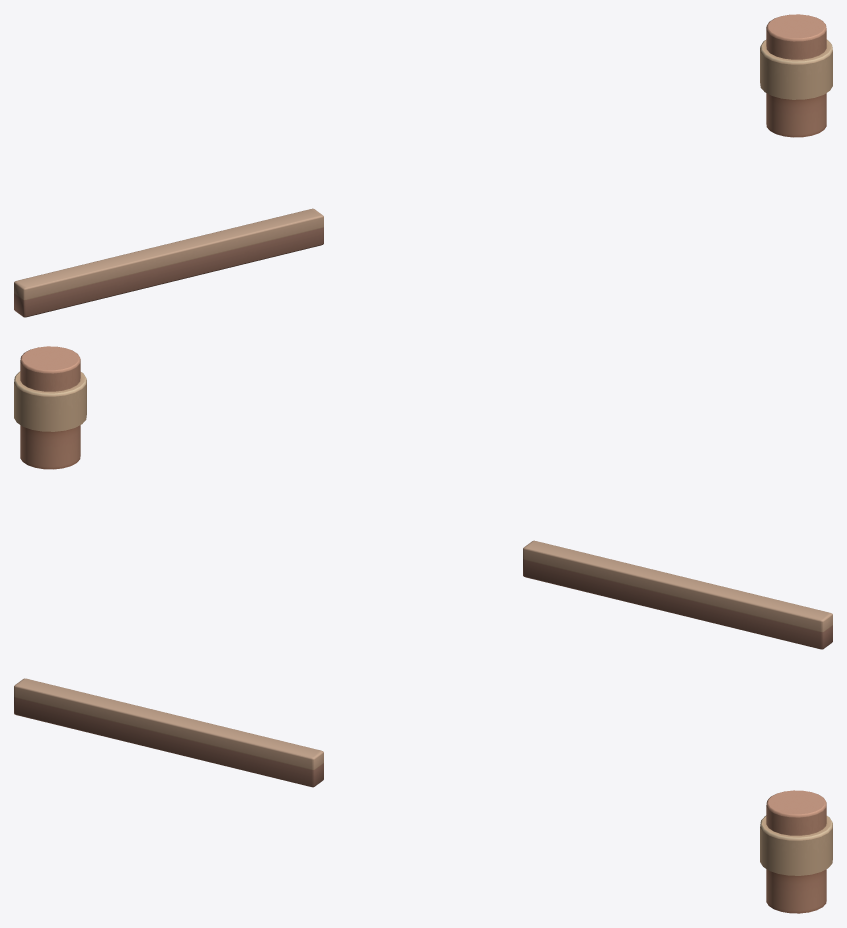
The model's file is Props.fbx.
3 renders of one model, top to bottom at view 1: azimuth 30°, elevation 25°; view 2: azimuth 150°, elevation 25°; view 3: azimuth 330°, elevation 25°, orthographic.
Visible parts, largest first — view 1: Box20-3_1 (1), Cylinder-2; view 2: Box20-3_1 (1), Cylinder-2; view 3: Box20-3_1 (1), Cylinder-2.
Boxes of the visible parts, bbox=[...] form: Box20-3_1 (1): bbox=[14, 208, 323, 317]; Cylinder-2: bbox=[760, 14, 832, 137]; Box20-3_1 (1): bbox=[523, 540, 832, 649]; Cylinder-2: bbox=[14, 346, 86, 469]; Box20-3_1 (1): bbox=[14, 678, 323, 787]; Cylinder-2: bbox=[760, 790, 832, 913].
Bounding box in the file's own units: 43.09 × 5 × 3.38.
